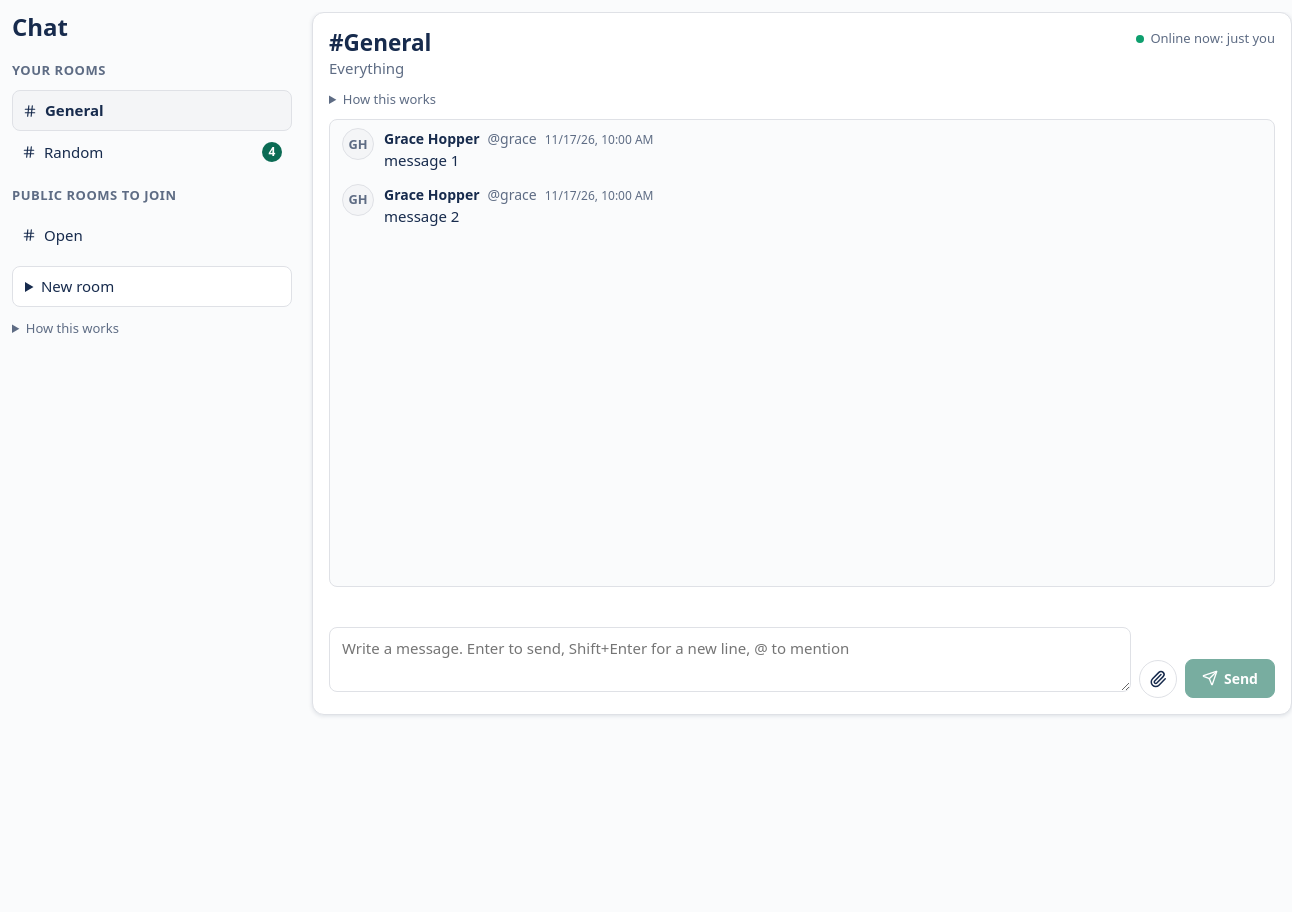
Test: ChatPage: messages › sends a message: inserts it, shows it at once, and the realtime echo does not duplicate it
Expected: the text "message 1" is shown, [384,150,459,170]
In the dropdown labelled "message": (730, 660) [329,627,1131,692], type "hello team"
Then press Enter
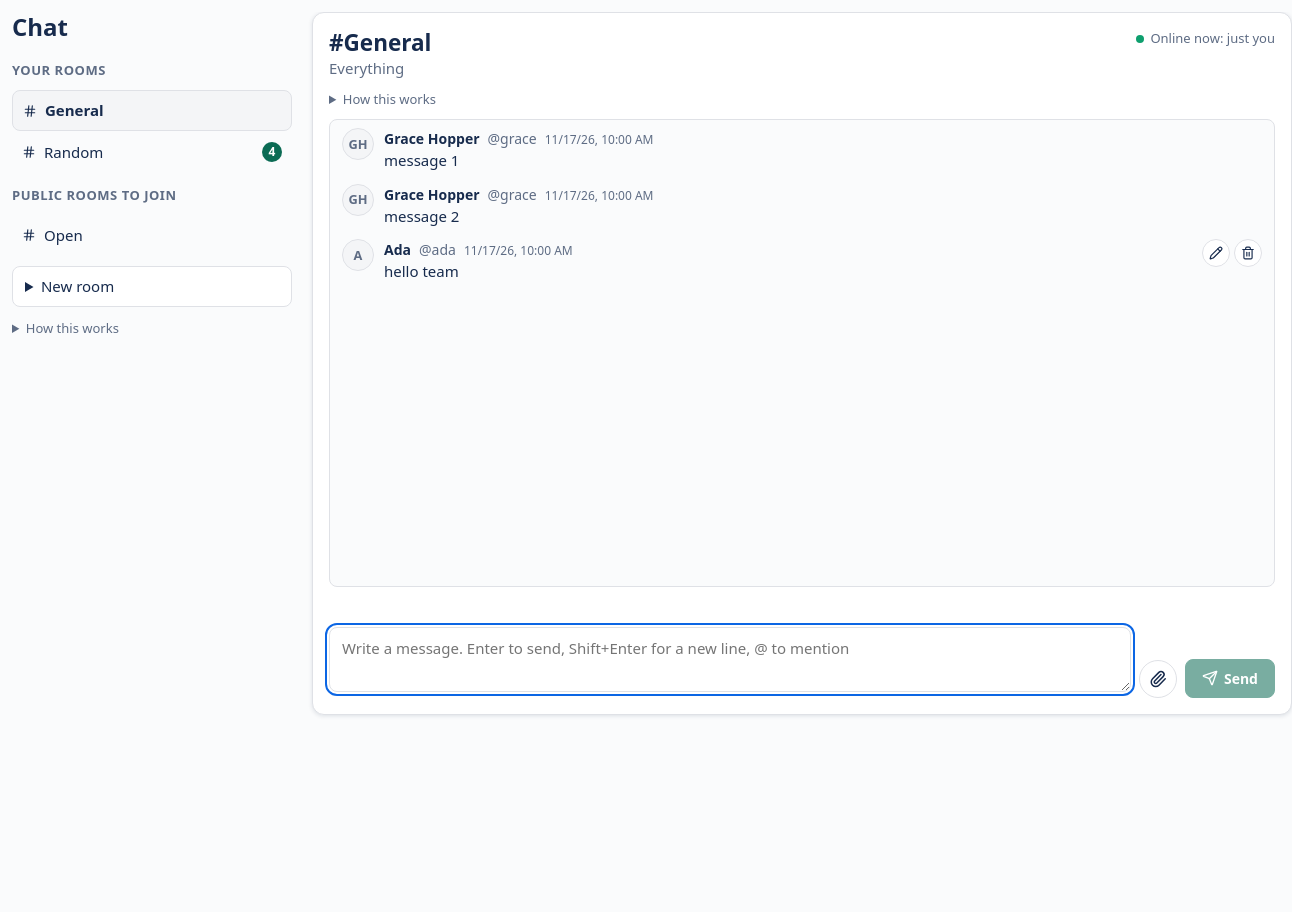
Now the text "hello team" is shown once, box [384,261,459,281]
